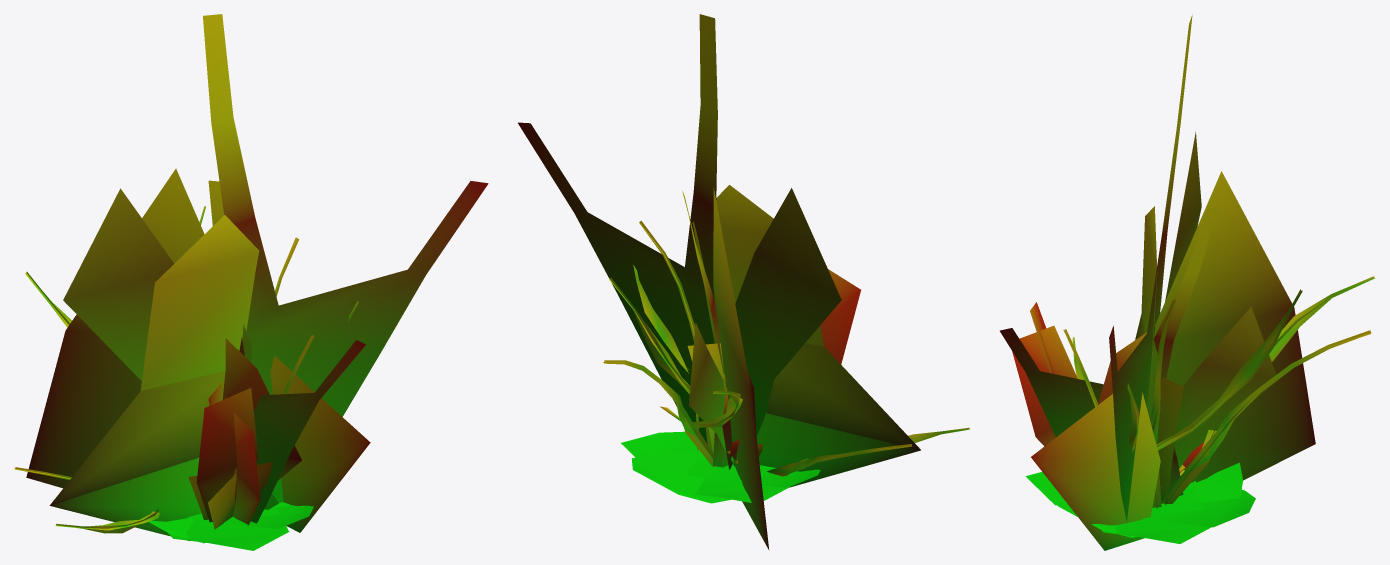
Rendered from Dead Finish_LOD1_Var6_ucokaamia.fbx.
3 views of the same model, side by side, from view 1: azimuth 30°, elevation 25°; view 2: azimuth 150°, elevation 25°; view 3: azimuth 270°, elevation 25° (orthographic). The views are drawn at different scales.
Visible parts, largest first — view 1: _ppys_Var6_LOD1; view 2: _ppys_Var6_LOD1; view 3: _ppys_Var6_LOD1.
Part boxes in pixels (x1,y1,x2,y2): _ppys_Var6_LOD1: (14,14,488,550); _ppys_Var6_LOD1: (518,14,969,550); _ppys_Var6_LOD1: (1000,14,1375,550).
Size of the model in its own units: 46.3 by 49.43 by 32.75.
